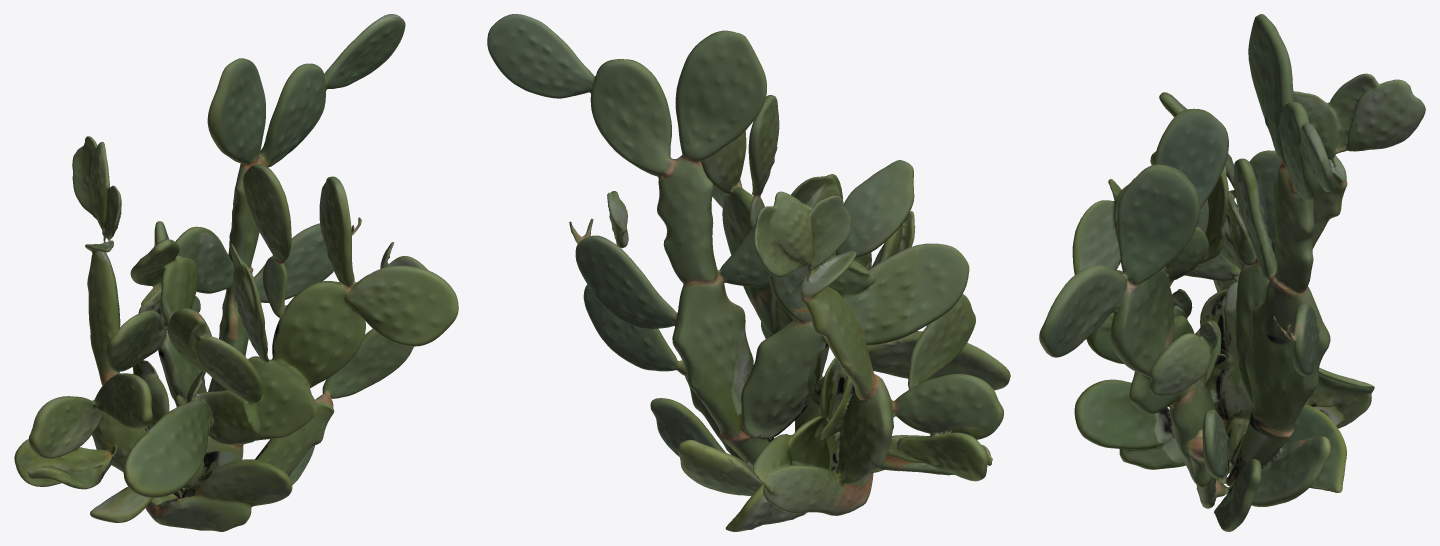
The model's file is modelo_opuntia.glb.
The picture shows the model from 3 angles, left to right: view 1: azimuth 30°, elevation 25°; view 2: azimuth 150°, elevation 25°; view 3: azimuth 270°, elevation 25°; orthographic projection. The views are drawn at different scales.
Visible parts, largest first — view 1: Mesh1.0; view 2: Mesh1.0; view 3: Mesh1.0.
Boxes of the visible parts, x1=… form: Mesh1.0: x1=14, y1=14, x2=458, y2=531; Mesh1.0: x1=487, y1=14, x2=1010, y2=531; Mesh1.0: x1=1039, y1=14, x2=1425, y2=531.
Bounding box in the file's own units: 2.01 × 1.92 × 1.37.
1 material, 1 textured.
